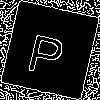P: (25, 25, 69, 77)
